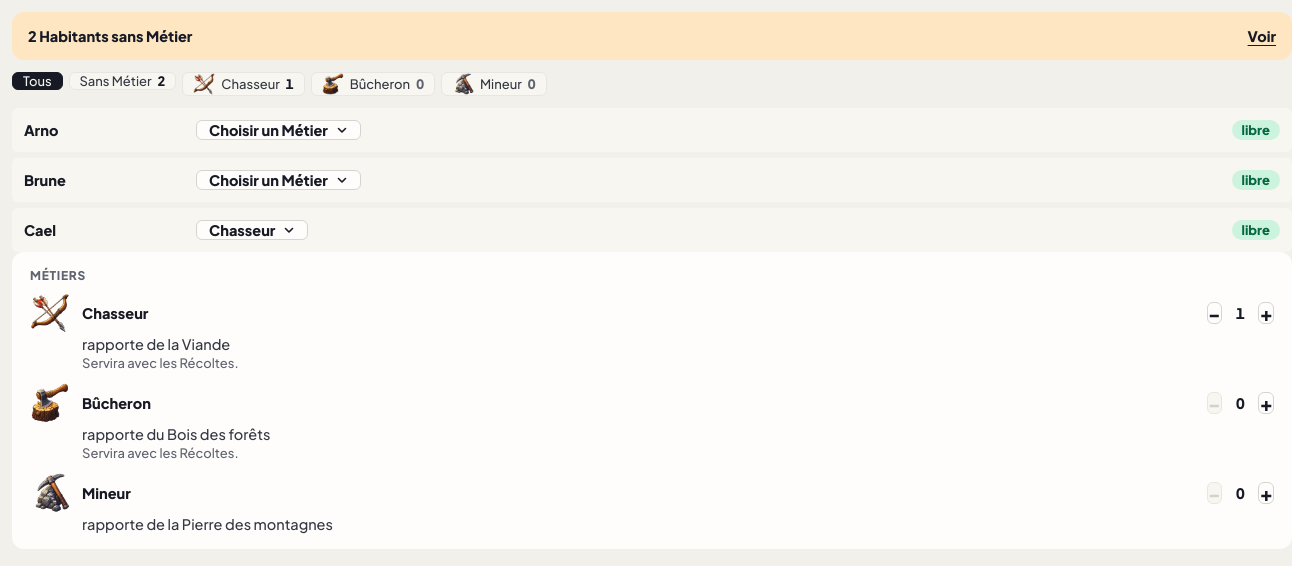
Test case: répartir les Habitants avec plus et moins, dans le bloc Métiers (US-0312) › grise « + » partout dès qu'il ne reste aucun Habitant sans Métier
What coordinates should you click on to do the following:
click the 2nd button "+"
I would click on:
 (1266, 403)
Its box is x1=1258 y1=392 x2=1274 y2=414.
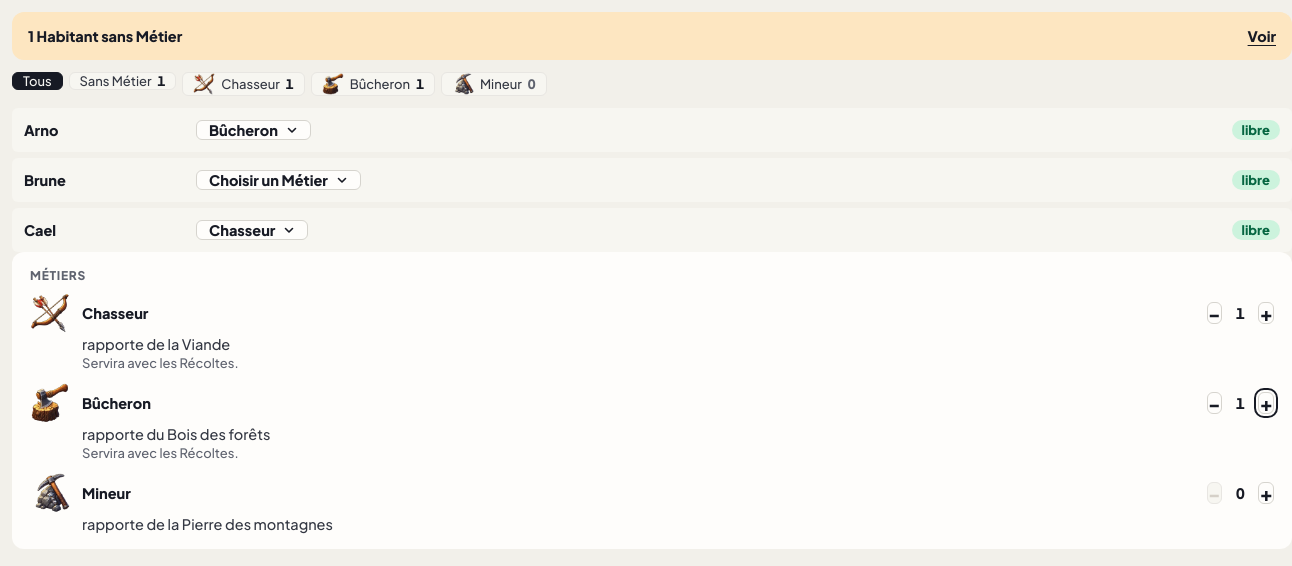
What coordinates should you click on to do the following:
click the 3rd button "+"
I would click on:
 (1266, 493)
Its box is x1=1258 y1=482 x2=1274 y2=504.
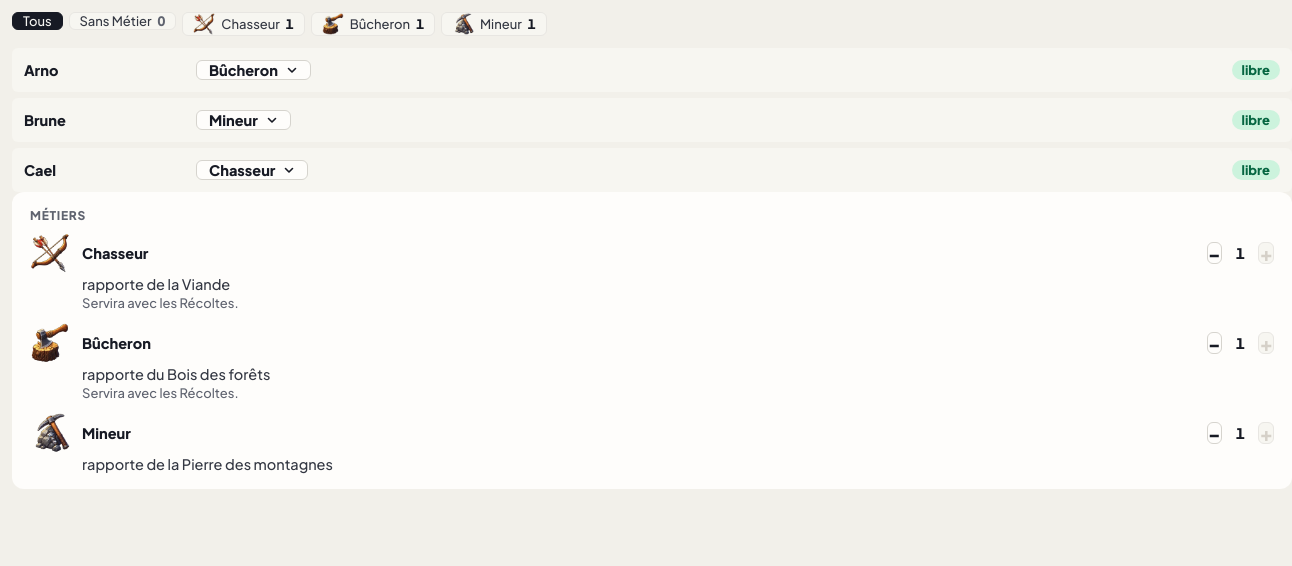
Expected: the link "Voir" is gone
